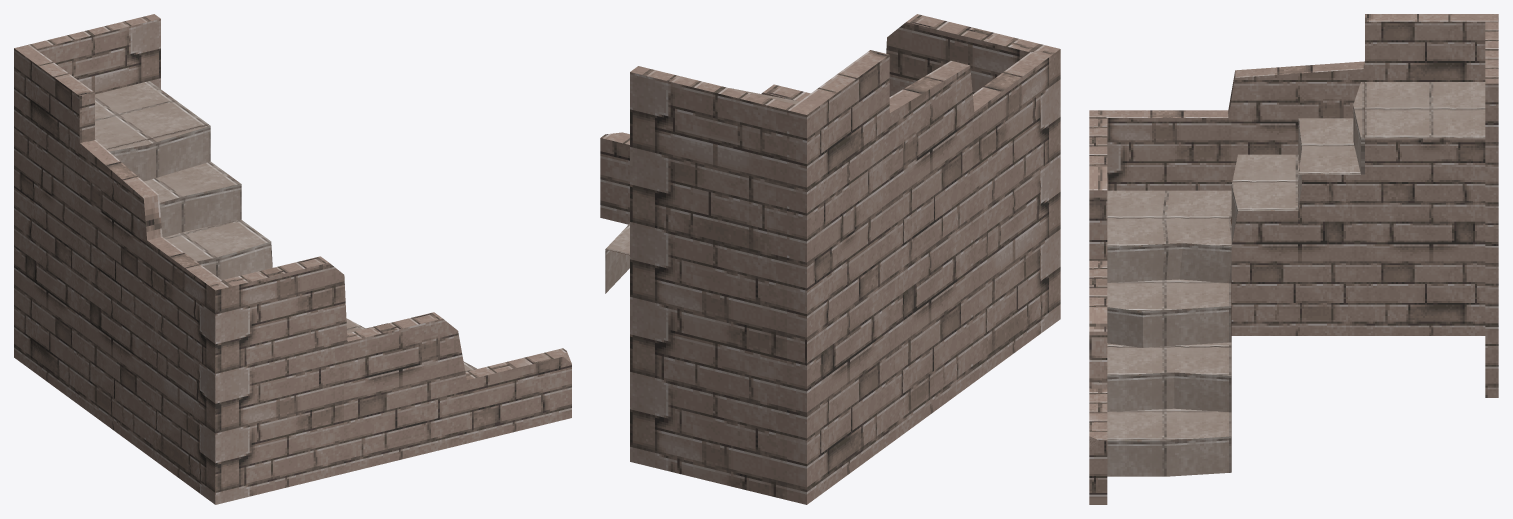
Rendered from stairs_stone_stone_corner.glb.
3 renders of one model, left to right at view 1: azimuth 30°, elevation 25°; view 2: azimuth 150°, elevation 25°; view 3: azimuth 270°, elevation 25°, orthographic. The views are drawn at different scales.
Visible parts, largest first — view 1: stairs_stone_stone_corner; view 2: stairs_stone_stone_corner; view 3: stairs_stone_stone_corner.
Boxes of the visible parts, x1,y1,x2,y2 form: stairs_stone_stone_corner: [14, 14, 571, 504]; stairs_stone_stone_corner: [600, 14, 1060, 504]; stairs_stone_stone_corner: [1089, 14, 1498, 504].
Bounding box in the file's own units: 3.13 × 2.6 × 3.07.
1 material, 1 textured.
